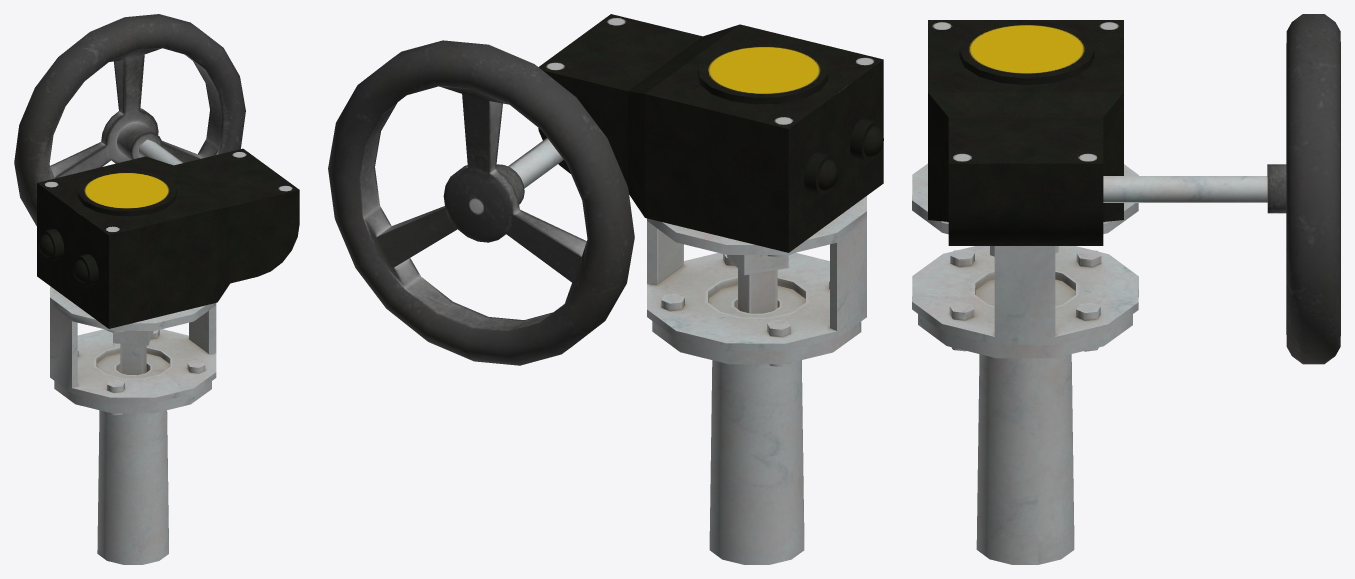
The picture shows the model from 3 angles, left to right: view 1: azimuth 30°, elevation 25°; view 2: azimuth 150°, elevation 25°; view 3: azimuth 270°, elevation 25°; orthographic projection. The views are drawn at different scales.
Parts seen in each view (by area): view 1: _10022_zp; view 2: _10022_zp; view 3: _10022_zp.
Part boxes in pixels (x1,y1,x2,y2): _10022_zp: (14, 14, 299, 564); _10022_zp: (328, 14, 883, 564); _10022_zp: (912, 14, 1340, 564).
Size of the model in its own units: 16.88 by 23.77 by 15.84.
